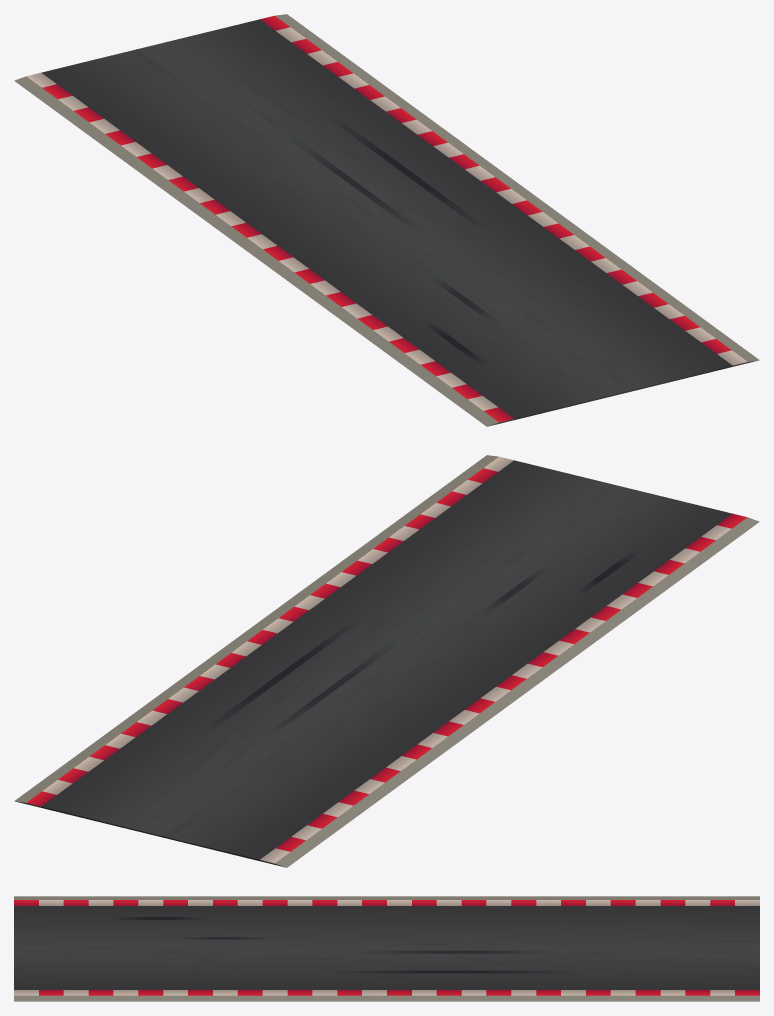
The model's file is Straight_1E_Long.glb.
3 views of the same model, one above another, from view 1: azimuth 30°, elevation 25°; view 2: azimuth 150°, elevation 25°; view 3: azimuth 270°, elevation 25° (orthographic). The views are drawn at different scales.
Visible parts, largest first — view 1: Straight_1E_Long, Straight_1E_Long_Skidmarks; view 2: Straight_1E_Long, Straight_1E_Long_Skidmarks; view 3: Straight_1E_Long, Straight_1E_Long_Skidmarks.
Boxes of the visible parts, x1,y1,x2,y2 form: Straight_1E_Long: [14, 14, 759, 426]; Straight_1E_Long_Skidmarks: [287, 114, 501, 368]; Straight_1E_Long: [14, 455, 759, 867]; Straight_1E_Long_Skidmarks: [200, 547, 644, 736]; Straight_1E_Long: [14, 896, 759, 1001]; Straight_1E_Long_Skidmarks: [105, 917, 577, 973].
Bounding box in the file's own units: 20 × 0.1085 × 60.
Materials: 1 (1 with a texture image).
